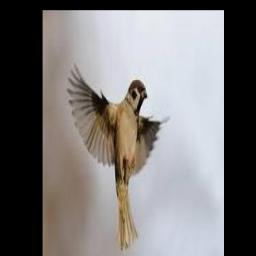Sparrow: (67, 62, 170, 250)
